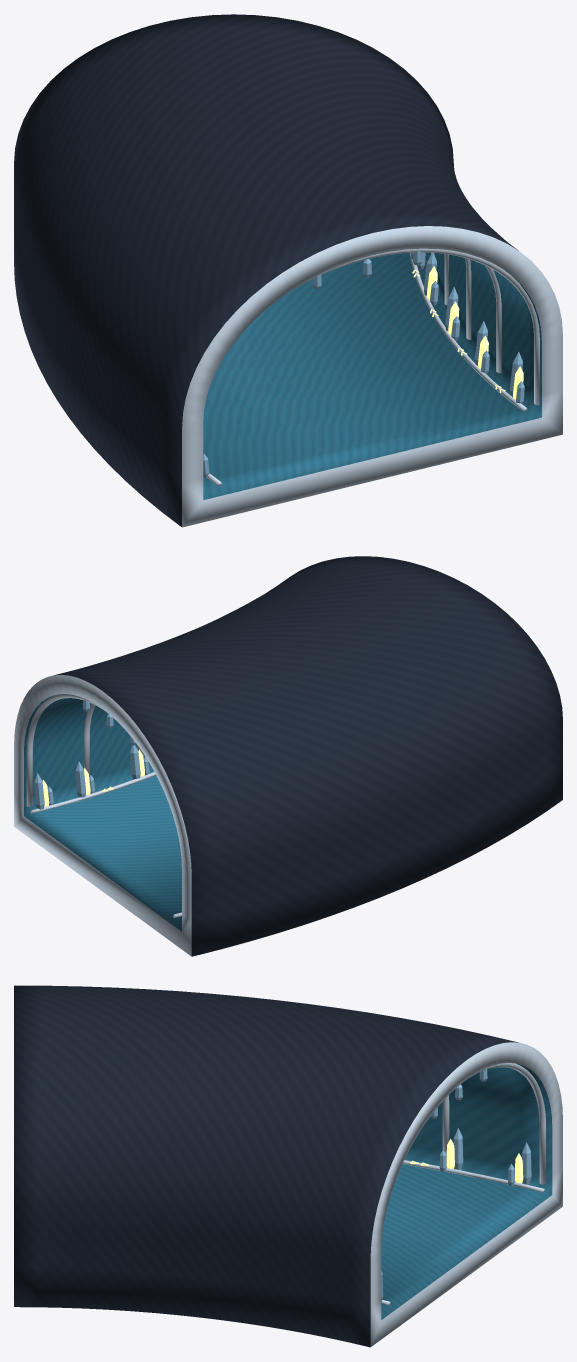
Rendered from curve_right_30.glb.
3 views of the same model, one above another, from view 1: azimuth 30°, elevation 25°; view 2: azimuth 150°, elevation 25°; view 3: azimuth 270°, elevation 25° (orthographic). The views are drawn at different scales.
Visible parts, largest first — view 1: TunnelGeometry; view 2: TunnelGeometry; view 3: TunnelGeometry.
Part boxes in pixels (bbox=[...]): TunnelGeometry: bbox=[14, 14, 562, 527]; TunnelGeometry: bbox=[14, 556, 562, 956]; TunnelGeometry: bbox=[14, 985, 562, 1347].
Size of the model in its own units: 19.1 by 9.52 by 21.83.
5 materials, 2 textured.
